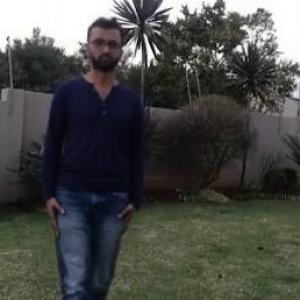follow: (43, 1, 142, 299)
